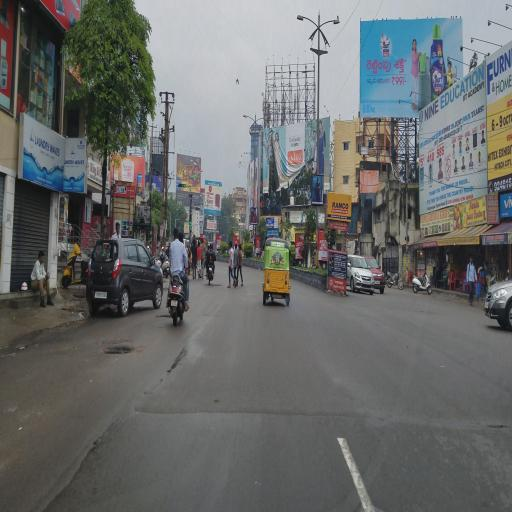street_light_0: (292, 14, 320, 37), (319, 15, 346, 38)
